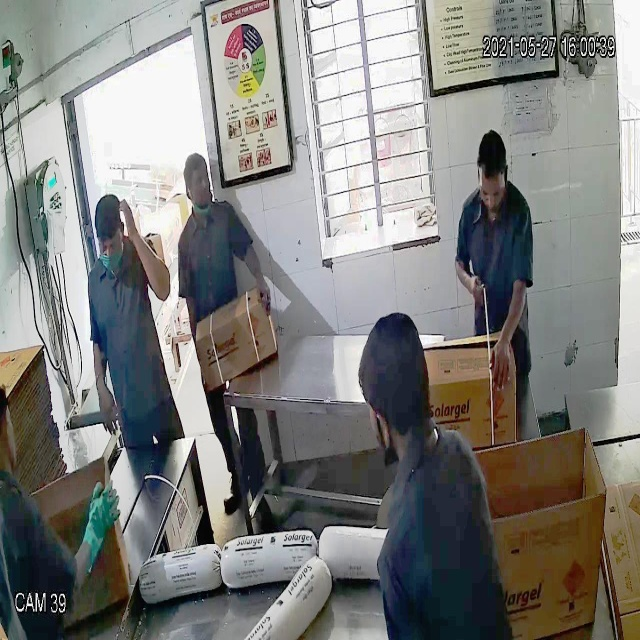Sin_gafas: (474, 173, 510, 206), (93, 232, 126, 260), (183, 171, 218, 196)
